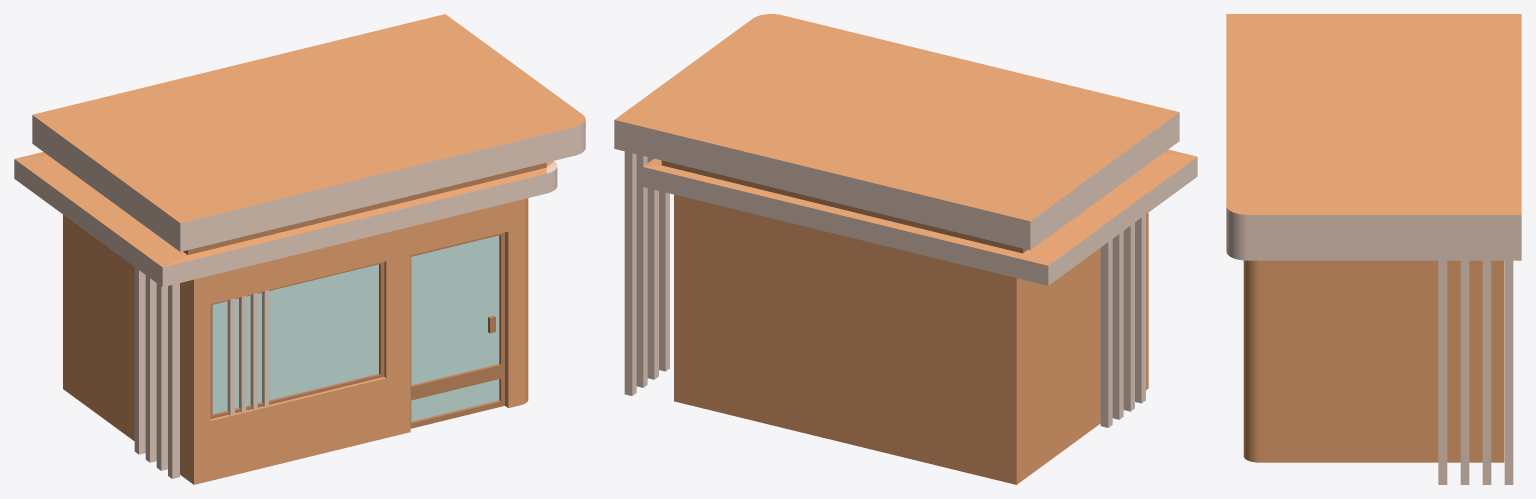
The model's file is Casa5.fbx.
3 renders of one model, left to right at view 1: azimuth 30°, elevation 25°; view 2: azimuth 150°, elevation 25°; view 3: azimuth 270°, elevation 25°, orthographic.
Visible parts, largest first — view 1: gas_station_shop; view 2: gas_station_shop; view 3: gas_station_shop.
Boxes of the visible parts, x1,y1,x2,y2 form: gas_station_shop: (14,14,585,484); gas_station_shop: (614,14,1197,484); gas_station_shop: (1226,14,1521,484).
Size of the model in its own units: 660 by 401 by 393.
